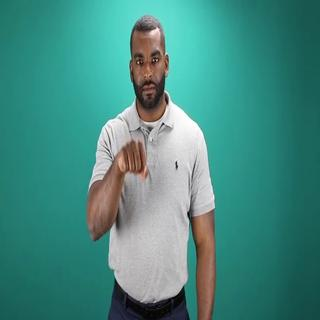yes: (111, 140, 154, 180)
